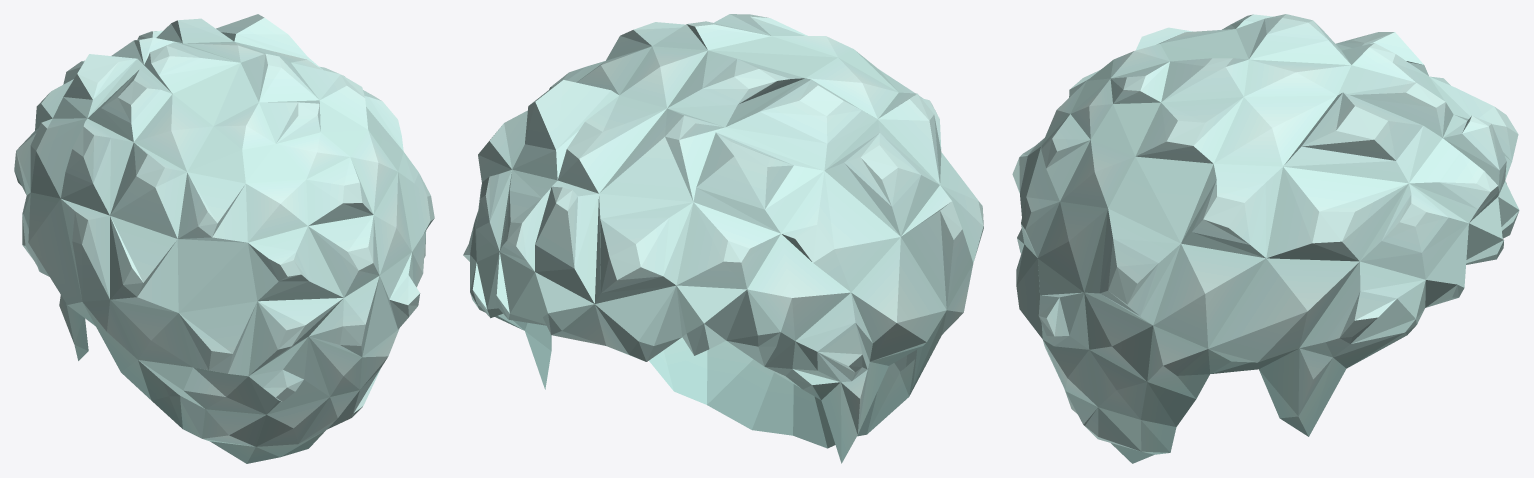
File: CharSkyKid_Hair_TightCurls.glb
The picture shows the model from 3 angles, left to right: view 1: azimuth 30°, elevation 25°; view 2: azimuth 150°, elevation 25°; view 3: azimuth 270°, elevation 25°; orthographic projection. The views are drawn at different scales.
Parts seen in each view (by area): view 1: CharSkyKid_Hair_TightCurls; view 2: CharSkyKid_Hair_TightCurls; view 3: CharSkyKid_Hair_TightCurls.
Boxes of the visible parts, x1,y1,x2,y2 form: CharSkyKid_Hair_TightCurls: (14,14,434,463); CharSkyKid_Hair_TightCurls: (463,14,983,463); CharSkyKid_Hair_TightCurls: (1012,14,1519,463).
Bounding box in the file's own units: 2.73 × 2.79 × 3.15.
1 material, 1 textured.
